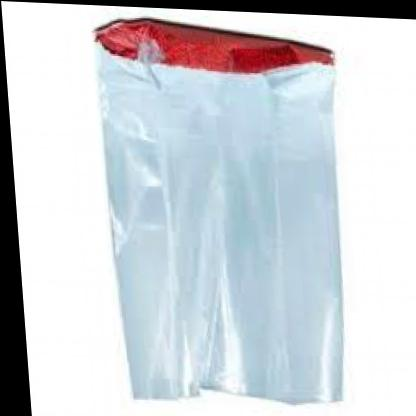Plastic: (81, 3, 402, 409)
